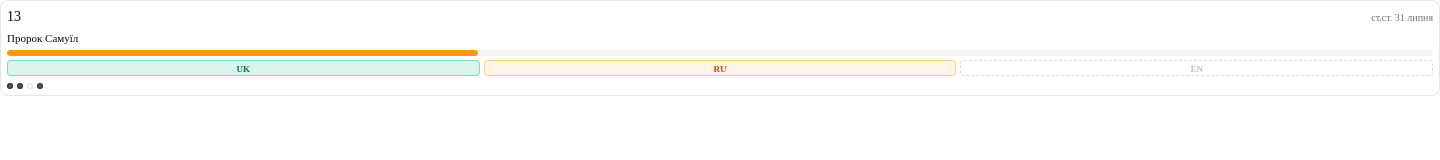
Test: CalendarDayCell › shows each language's own status from the full sibling list, independent of the active filter
The width and height of the screenshot is (1440, 160).
Hover over the button "uk" at (243, 68), box x1=7 y1=60 x2=480 y2=76
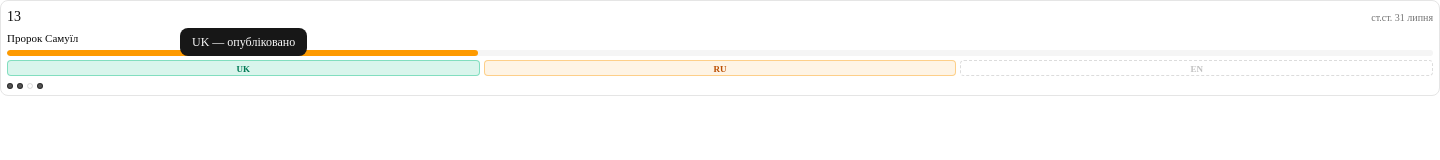
Now the tooltip "UK — опубліковано" is shown, box x1=180 y1=28 x2=307 y2=56
Hover over the button "ru" at (720, 68), box x1=484 y1=60 x2=956 y2=76
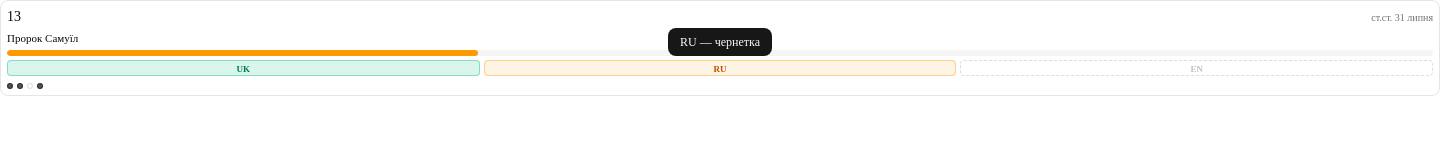
Now the tooltip "RU — чернетка" is shown, box x1=668 y1=28 x2=772 y2=56
Hover over the button "en" at (1197, 68), box x1=960 y1=60 x2=1433 y2=76
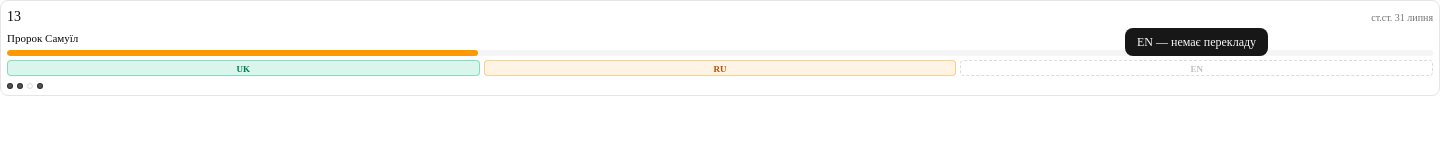
Now the tooltip "EN — немає перекладу" is shown, box x1=1125 y1=28 x2=1268 y2=56
